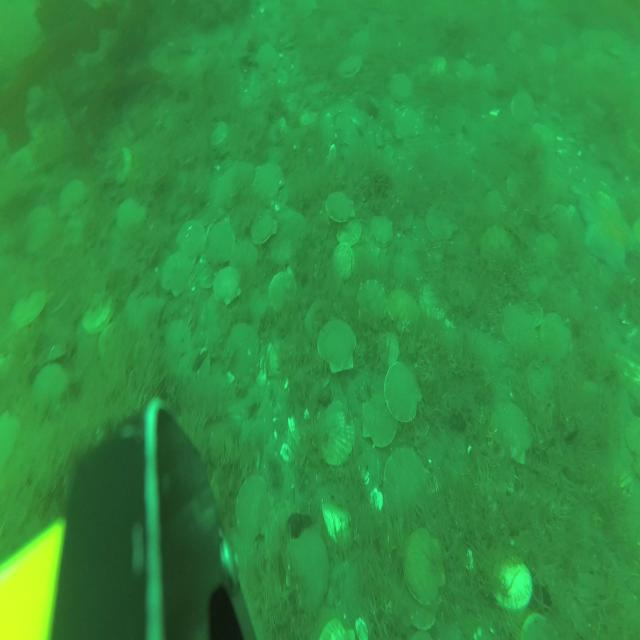scallop: (381, 446, 433, 530), (286, 523, 330, 617), (402, 520, 446, 609), (488, 397, 537, 468), (313, 396, 357, 469), (235, 474, 273, 546), (382, 360, 423, 423), (489, 554, 534, 611), (361, 386, 400, 450), (317, 315, 357, 377), (266, 496, 302, 564), (498, 301, 540, 358), (31, 362, 70, 421), (226, 320, 262, 375), (22, 204, 58, 254), (9, 288, 49, 333), (354, 278, 386, 332), (540, 311, 572, 363), (82, 288, 115, 336), (160, 254, 195, 299), (251, 160, 285, 205), (479, 224, 511, 271), (304, 297, 334, 347), (424, 202, 460, 242), (534, 228, 564, 276), (269, 268, 299, 316), (206, 220, 237, 266), (386, 286, 418, 330), (0, 407, 22, 471), (176, 218, 207, 260), (418, 284, 452, 322), (212, 266, 244, 306), (526, 361, 555, 404), (162, 317, 190, 361), (115, 197, 146, 236), (230, 235, 261, 274), (58, 178, 88, 218), (324, 188, 358, 223), (518, 612, 559, 640), (249, 208, 278, 246), (393, 108, 425, 142), (330, 242, 356, 283), (440, 101, 466, 139), (510, 90, 538, 125), (112, 144, 134, 188), (317, 618, 358, 640), (369, 212, 394, 248), (378, 331, 400, 371), (624, 411, 640, 465), (335, 215, 362, 246), (506, 166, 528, 203), (389, 72, 414, 104), (255, 44, 279, 76), (338, 53, 364, 82), (208, 119, 230, 151), (267, 117, 288, 146), (482, 62, 500, 94), (455, 56, 477, 82), (428, 54, 447, 78), (508, 30, 526, 55)
starfish: (576, 185, 634, 275)
